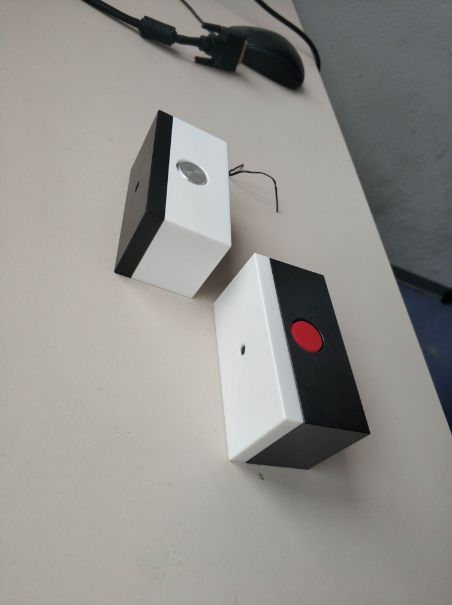black+white+silver: (112, 108, 236, 302)
white+black+red: (211, 251, 374, 473)
